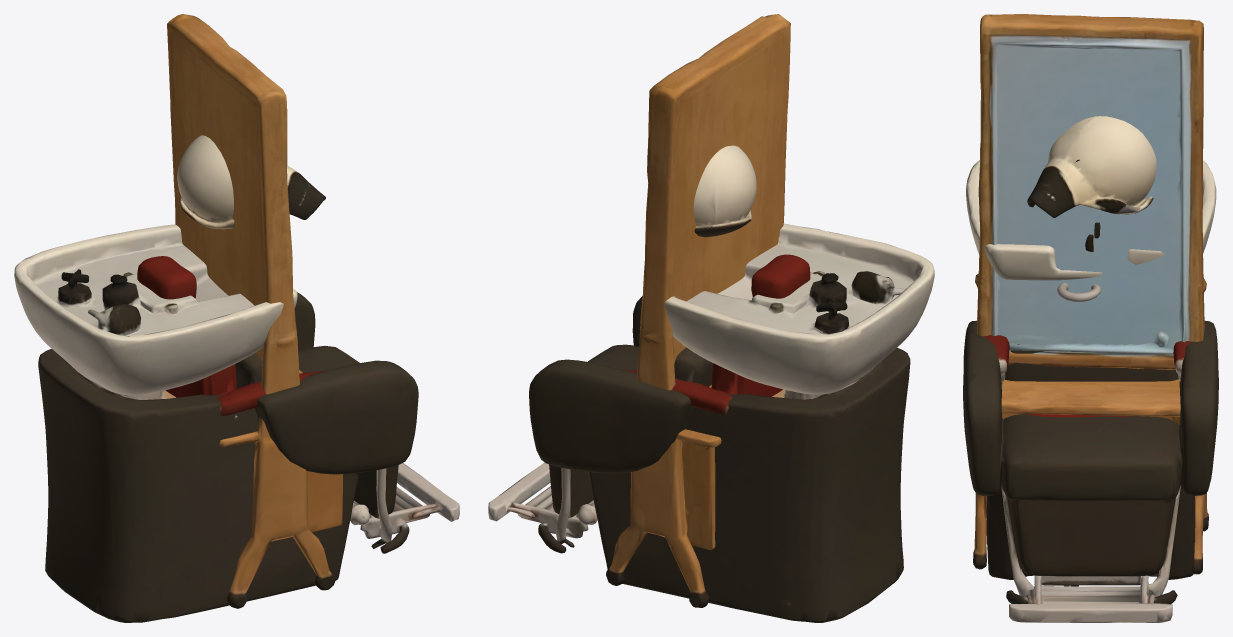
The model's file is salon.glb.
3 renders of one model, left to right at view 1: azimuth 30°, elevation 25°; view 2: azimuth 150°, elevation 25°; view 3: azimuth 270°, elevation 25°, orthographic. The views are drawn at different scales.
Parts seen in each view (by area): view 1: bac-a-shampoing, coiffeuse-miroir, casque-sechoir, fauteuil-coiffeur; view 2: bac-a-shampoing, coiffeuse-miroir, fauteuil-coiffeur, casque-sechoir; view 3: coiffeuse-miroir, bac-a-shampoing, casque-sechoir, fauteuil-coiffeur.
Part boxes in pixels (bbox=[...]): bac-a-shampoing: bbox=[14, 224, 459, 622]; coiffeuse-miroir: bbox=[167, 14, 342, 608]; casque-sechoir: bbox=[177, 135, 325, 229]; fauteuil-coiffeur: bbox=[137, 256, 369, 525]; bac-a-shampoing: bbox=[488, 223, 934, 622]; coiffeuse-miroir: bbox=[606, 14, 790, 607]; fauteuil-coiffeur: bbox=[577, 254, 810, 524]; casque-sechoir: bbox=[693, 145, 756, 237]; coiffeuse-miroir: bbox=[973, 14, 1208, 574]; bac-a-shampoing: bbox=[963, 160, 1218, 622]; casque-sechoir: bbox=[1027, 116, 1156, 586]; fauteuil-coiffeur: bbox=[984, 335, 1190, 417].
Bounding box in the file's own units: 1.39 × 1.8 × 0.7909.
Materials: 1 (1 with a texture image).
